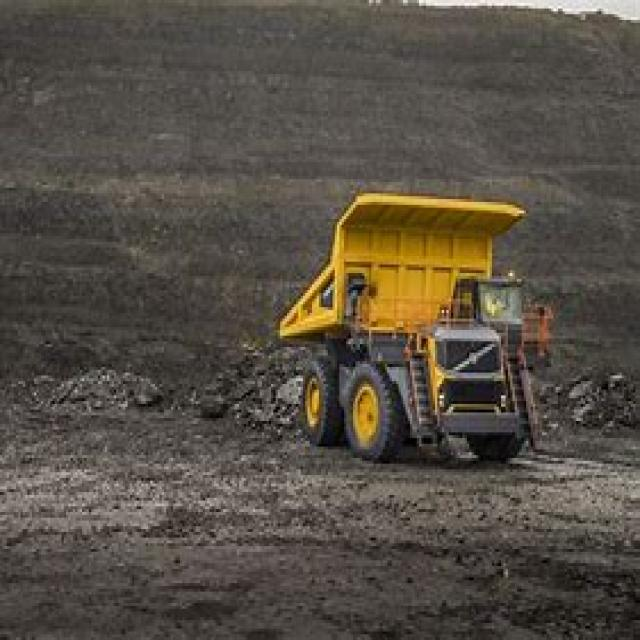dump_truck: (268, 185, 546, 472)
